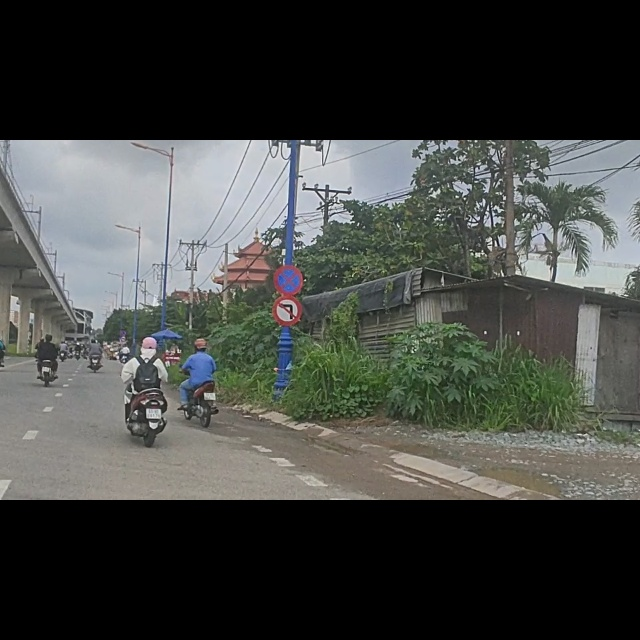bien_cam: (273, 224, 305, 274), (273, 275, 302, 329)
